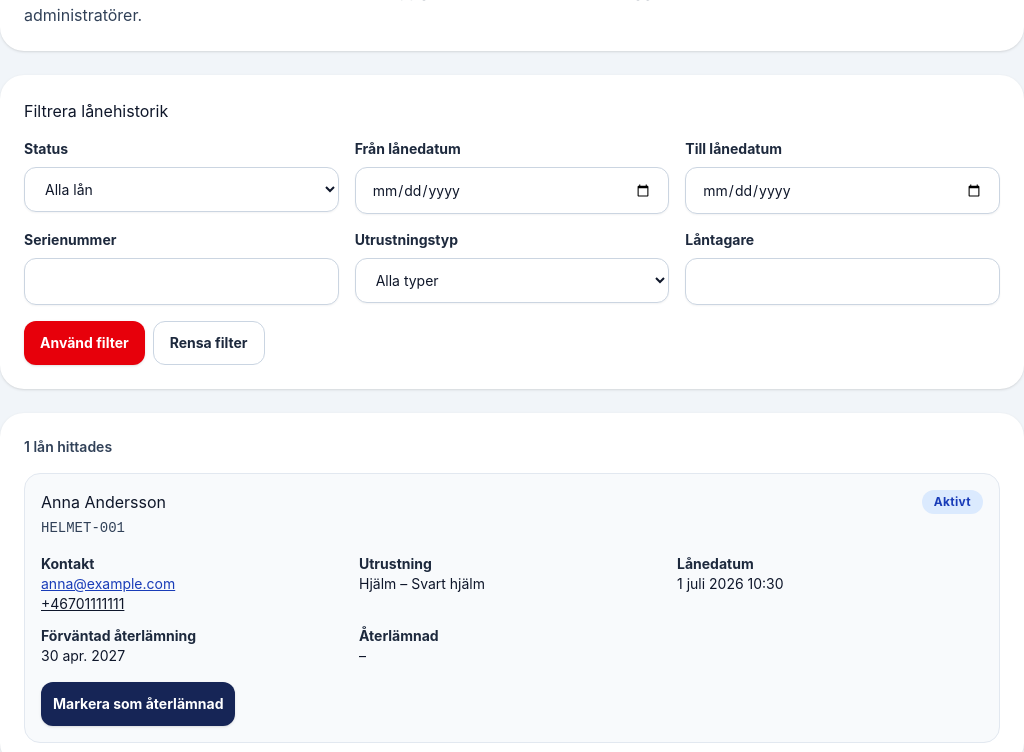
Scenario: ActiveLoansPage › refreshes history after already-returned concurrency error
(page scrolled)
Expected: the heading "Anna Andersson" is shown, [41, 490, 166, 514]
Click the button "Markera som återlämnad": (138, 704) [41, 682, 236, 726]
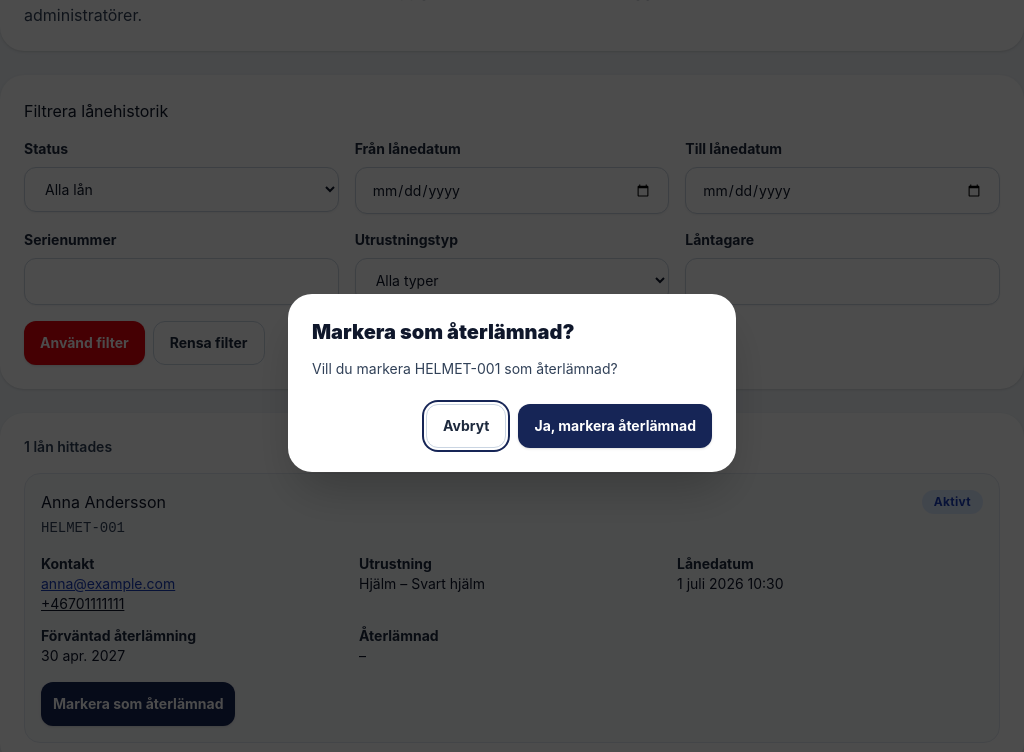
Click the button "Ja, markera återlämnad": (615, 426) [518, 404, 712, 448]
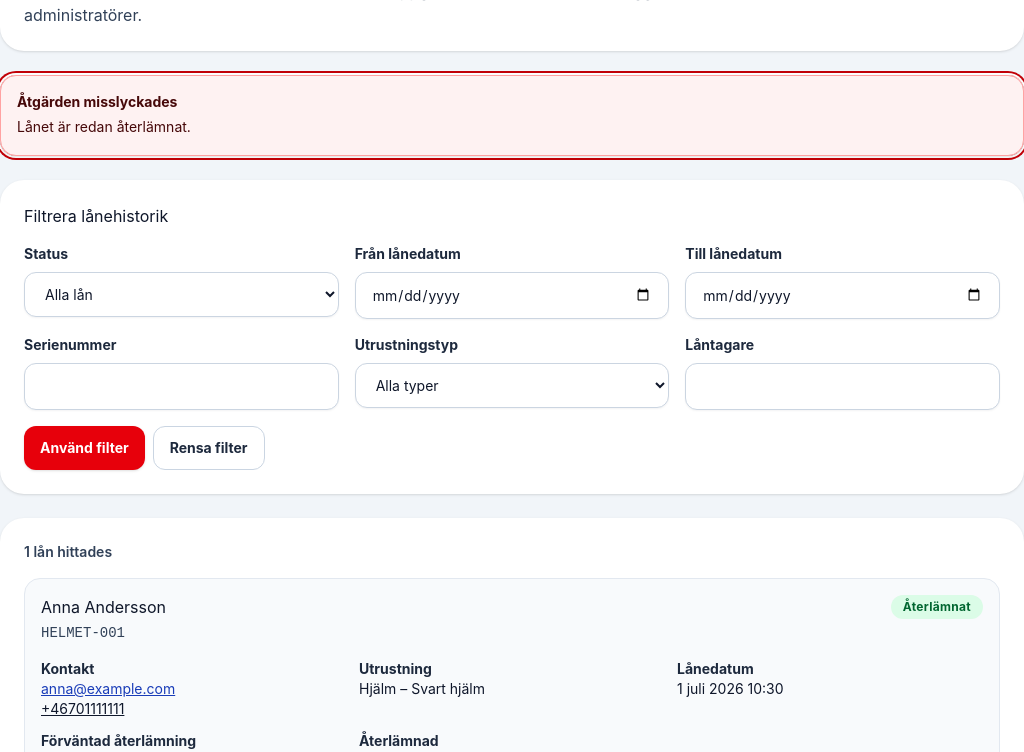
Expected: the text "Lånet är redan återlämnat." is shown, [17, 118, 191, 135]
Expected: the text "Återlämnat" is shown, [891, 595, 983, 619]
